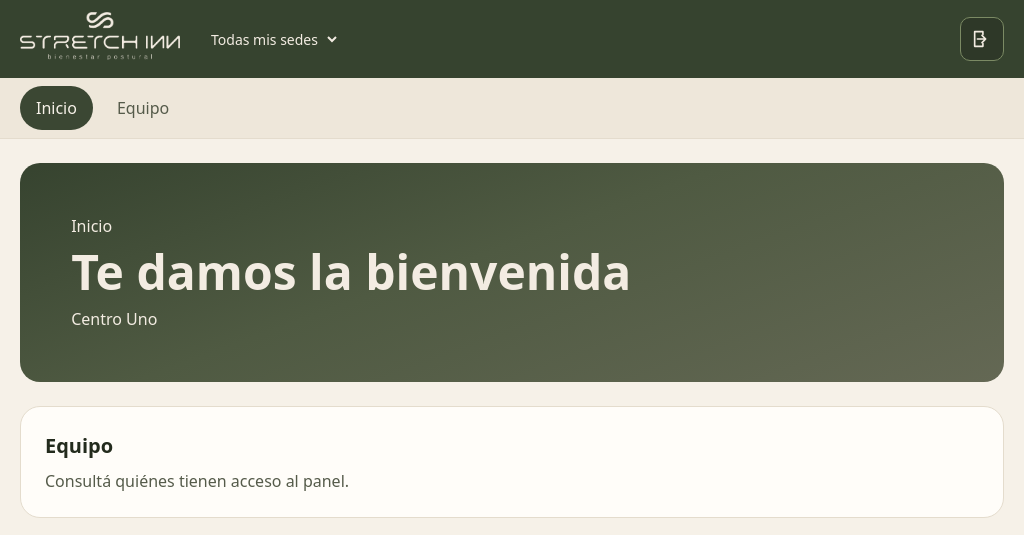
Test: acciones de cada persona › si la API no deja, muestra su motivo en la fila
The image size is (1024, 535).
Step 1. Click the link "Equipo" → coordinates (143, 108), box [117, 97, 169, 119]
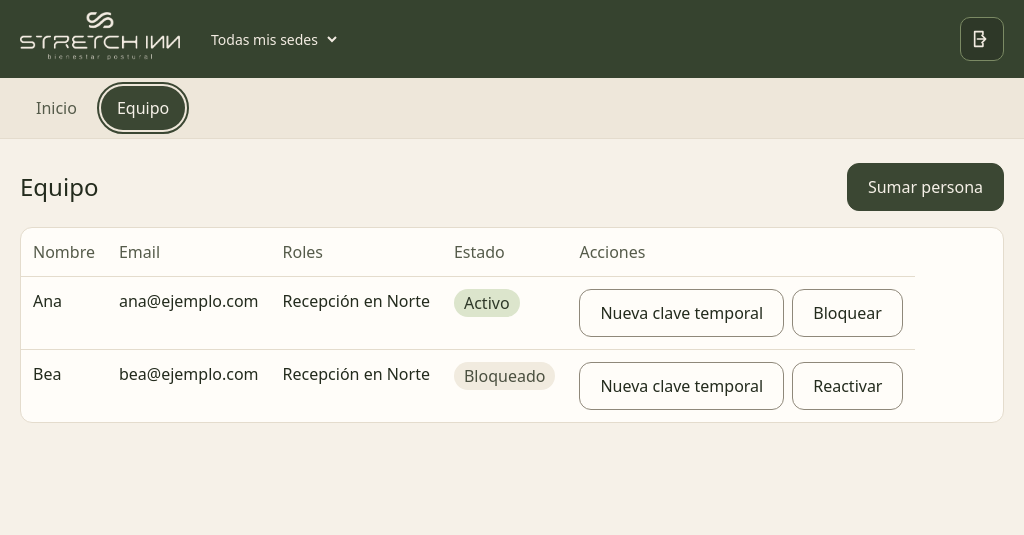
expect the heading "Equipo" is shown: met, box [20, 169, 98, 205]
Step 2. Click the button "Bloquear" → coordinates (847, 313), box [792, 289, 903, 337]
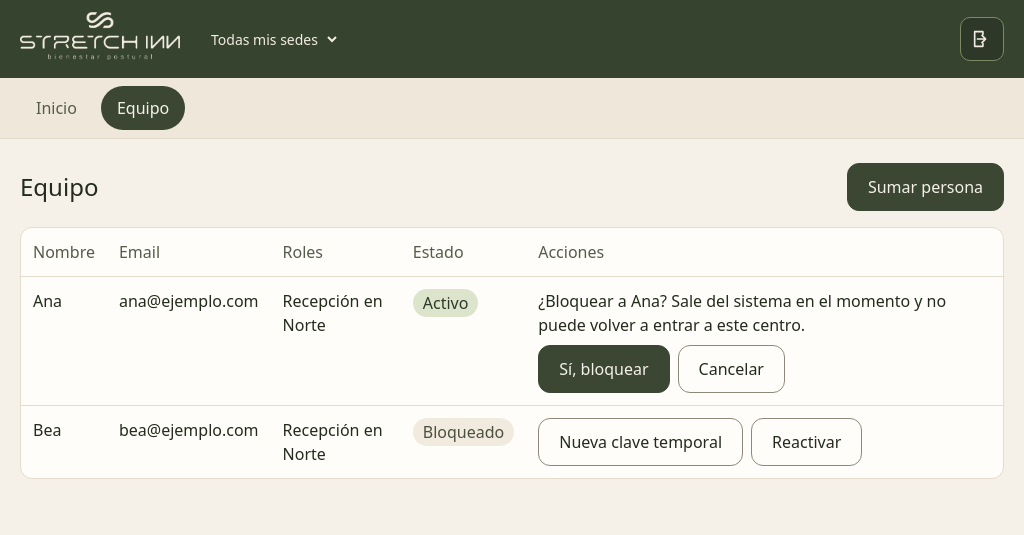
Step 3. Click the button "Sí, bloquear" → coordinates (604, 369), box [538, 345, 670, 393]
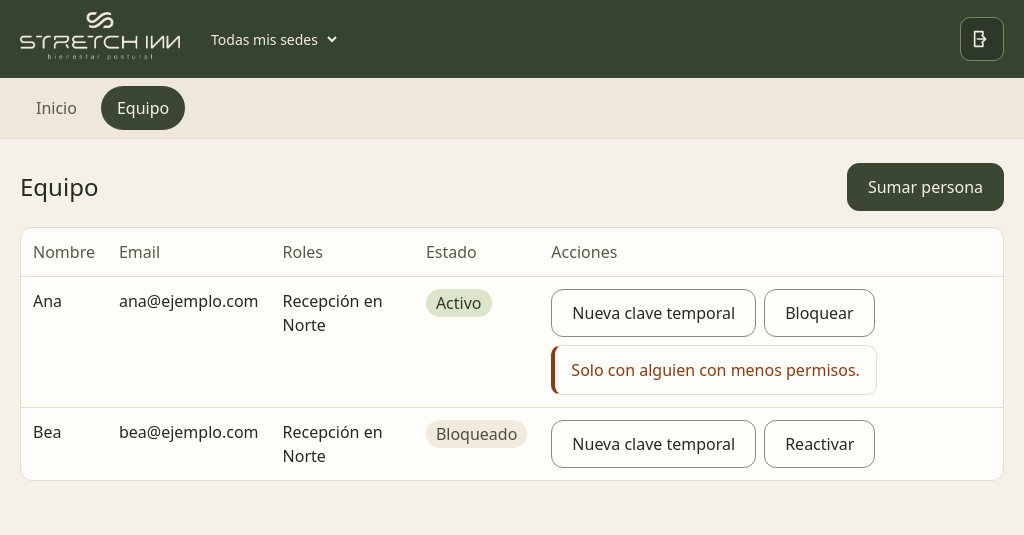
expect the message reads "Solo con alguien con menos permisos.": met, box [571, 359, 860, 381]
